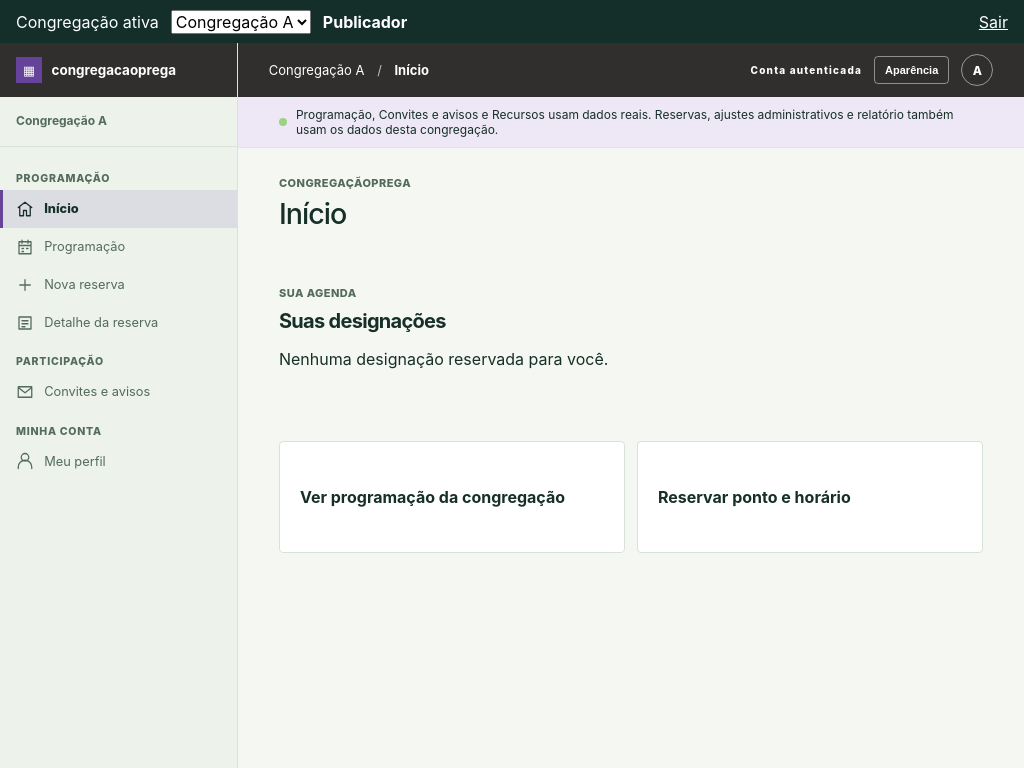
Test: IDN-001C access interface › selects only an authorized active congregation through the API
Select "Congregação B" in the dropdown labelled "Congregação ativa" at (241, 22), box x1=171 y1=10 x2=311 y2=34
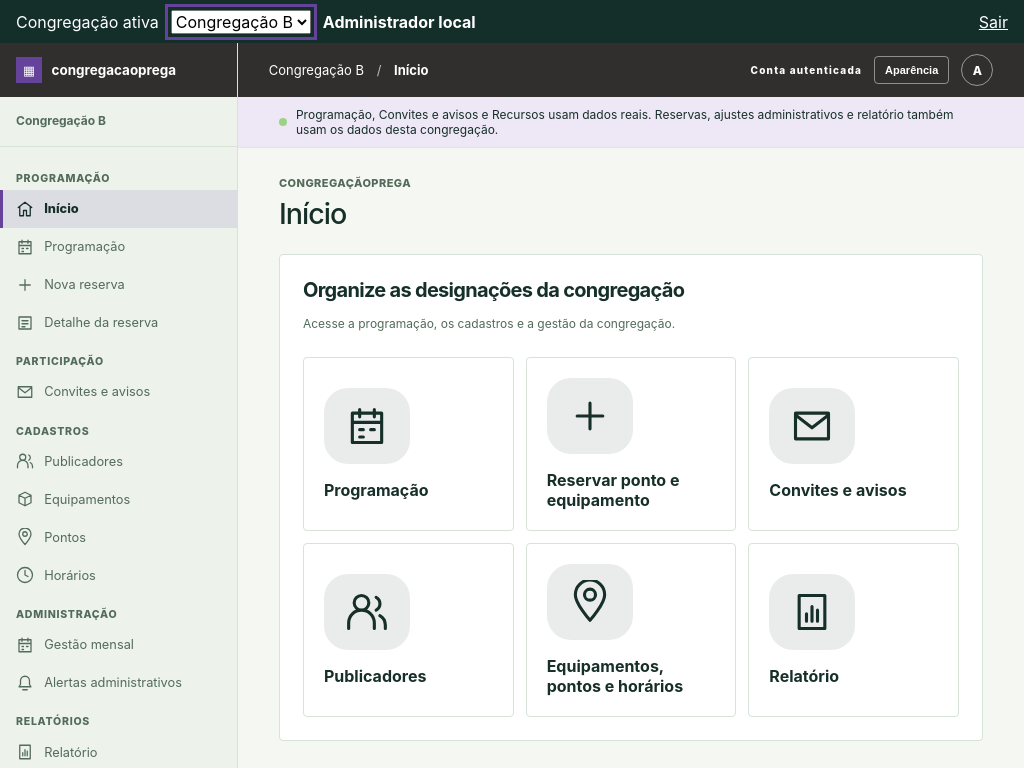
Expected: the text "Administrador local" is shown, x1=323 y1=12 x2=476 y2=32
